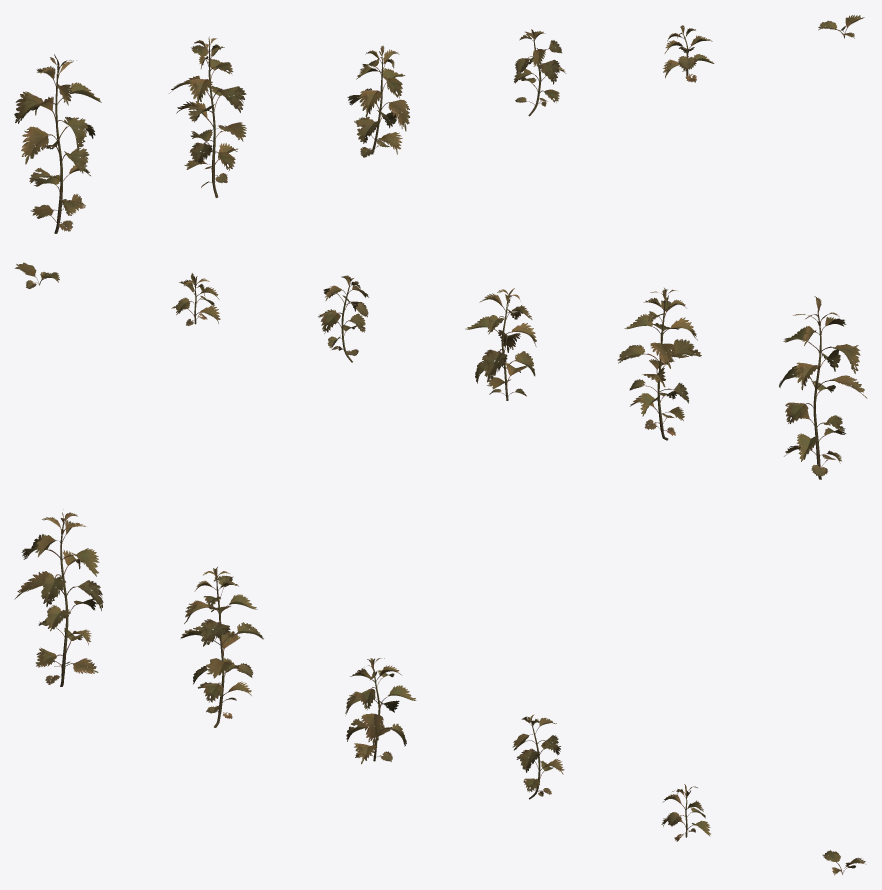
The model's file is nettle_plant.glb.
3 views of the same model, one above another, from view 1: azimuth 30°, elevation 25°; view 2: azimuth 150°, elevation 25°; view 3: azimuth 330°, elevation 25° (orthographic).
Visible parts, largest first — view 1: nettle_plant_tall_a_LOD0, nettle_plant_tall_b_LOD0, nettle_plant_medium_a_LOD0, nettle_plant_medium_b_LOD0, nettle_plant_small_a_LOD0; view 2: nettle_plant_tall_a_LOD0, nettle_plant_tall_b_LOD0, nettle_plant_medium_a_LOD0, nettle_plant_medium_b_LOD0, nettle_plant_small_a_LOD0; view 3: nettle_plant_tall_a_LOD0, nettle_plant_tall_b_LOD0, nettle_plant_medium_a_LOD0, nettle_plant_medium_b_LOD0, nettle_plant_small_a_LOD0.
Part boxes in pixels (box(x1,y1,x2,y2)): nettle_plant_tall_a_LOD0: box(14, 54, 101, 233); nettle_plant_tall_b_LOD0: box(169, 36, 246, 197); nettle_plant_medium_a_LOD0: box(347, 45, 409, 157); nettle_plant_medium_b_LOD0: box(514, 29, 566, 116); nettle_plant_small_a_LOD0: box(663, 25, 714, 82); nettle_plant_tall_a_LOD0: box(779, 296, 867, 479); nettle_plant_tall_b_LOD0: box(617, 288, 701, 440); nettle_plant_medium_a_LOD0: box(465, 288, 536, 400); nettle_plant_medium_b_LOD0: box(318, 275, 368, 362); nettle_plant_small_a_LOD0: box(171, 273, 220, 325); nettle_plant_tall_a_LOD0: box(14, 509, 103, 686); nettle_plant_tall_b_LOD0: box(181, 567, 263, 727); nettle_plant_medium_a_LOD0: box(345, 658, 416, 764); nettle_plant_medium_b_LOD0: box(512, 714, 564, 799); nettle_plant_small_a_LOD0: box(661, 784, 710, 841).
Size of the model in its own units: 1.08 by 0.2184 by 0.0947.
Materials: 1 (1 with a texture image).
